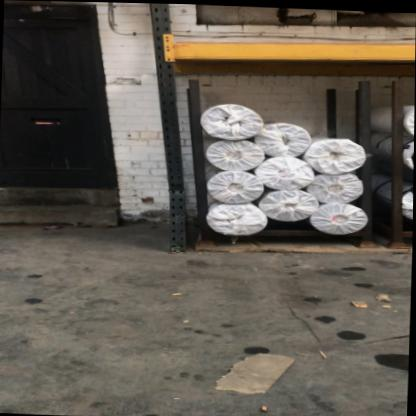vertical_damage: (158, 164, 194, 212)
